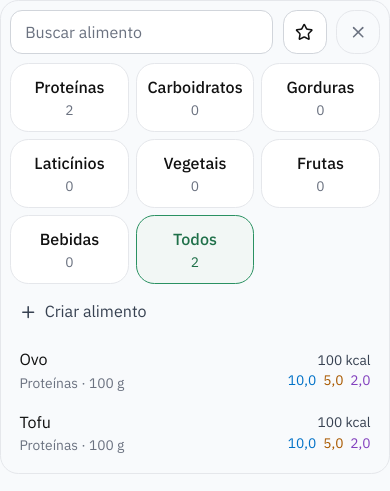
FoodPicker › filters to favourites only
This screenshot has width=390, height=491.
Expected: the search field named "Buscar alimento para adicionar" is enabled, [10, 10, 274, 54]
# A estrela direto na linha da busca (10.5).
Click the button named "Só favoritos".
click(305, 32)  # box [283, 10, 327, 54]
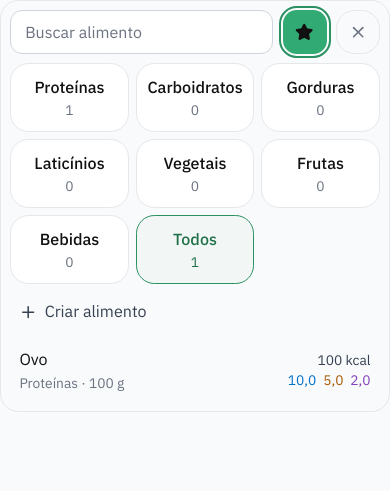
Expected: the button "Ovo Proteínas · 100 g 100 kcal 10,0 5,0 2,0" is shown, [10, 339, 380, 401]
Result: the button "Tofu" is gone
